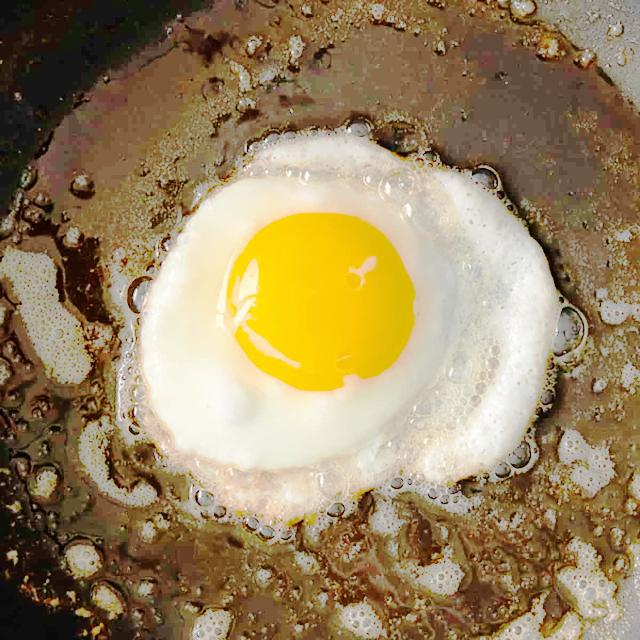fried_eggs: (122, 122, 562, 516)
